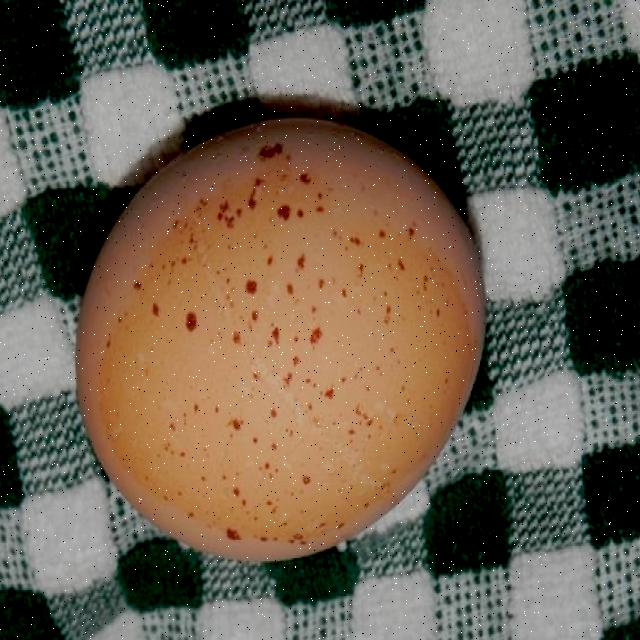Blood Stained Egg: (39, 82, 527, 610)
